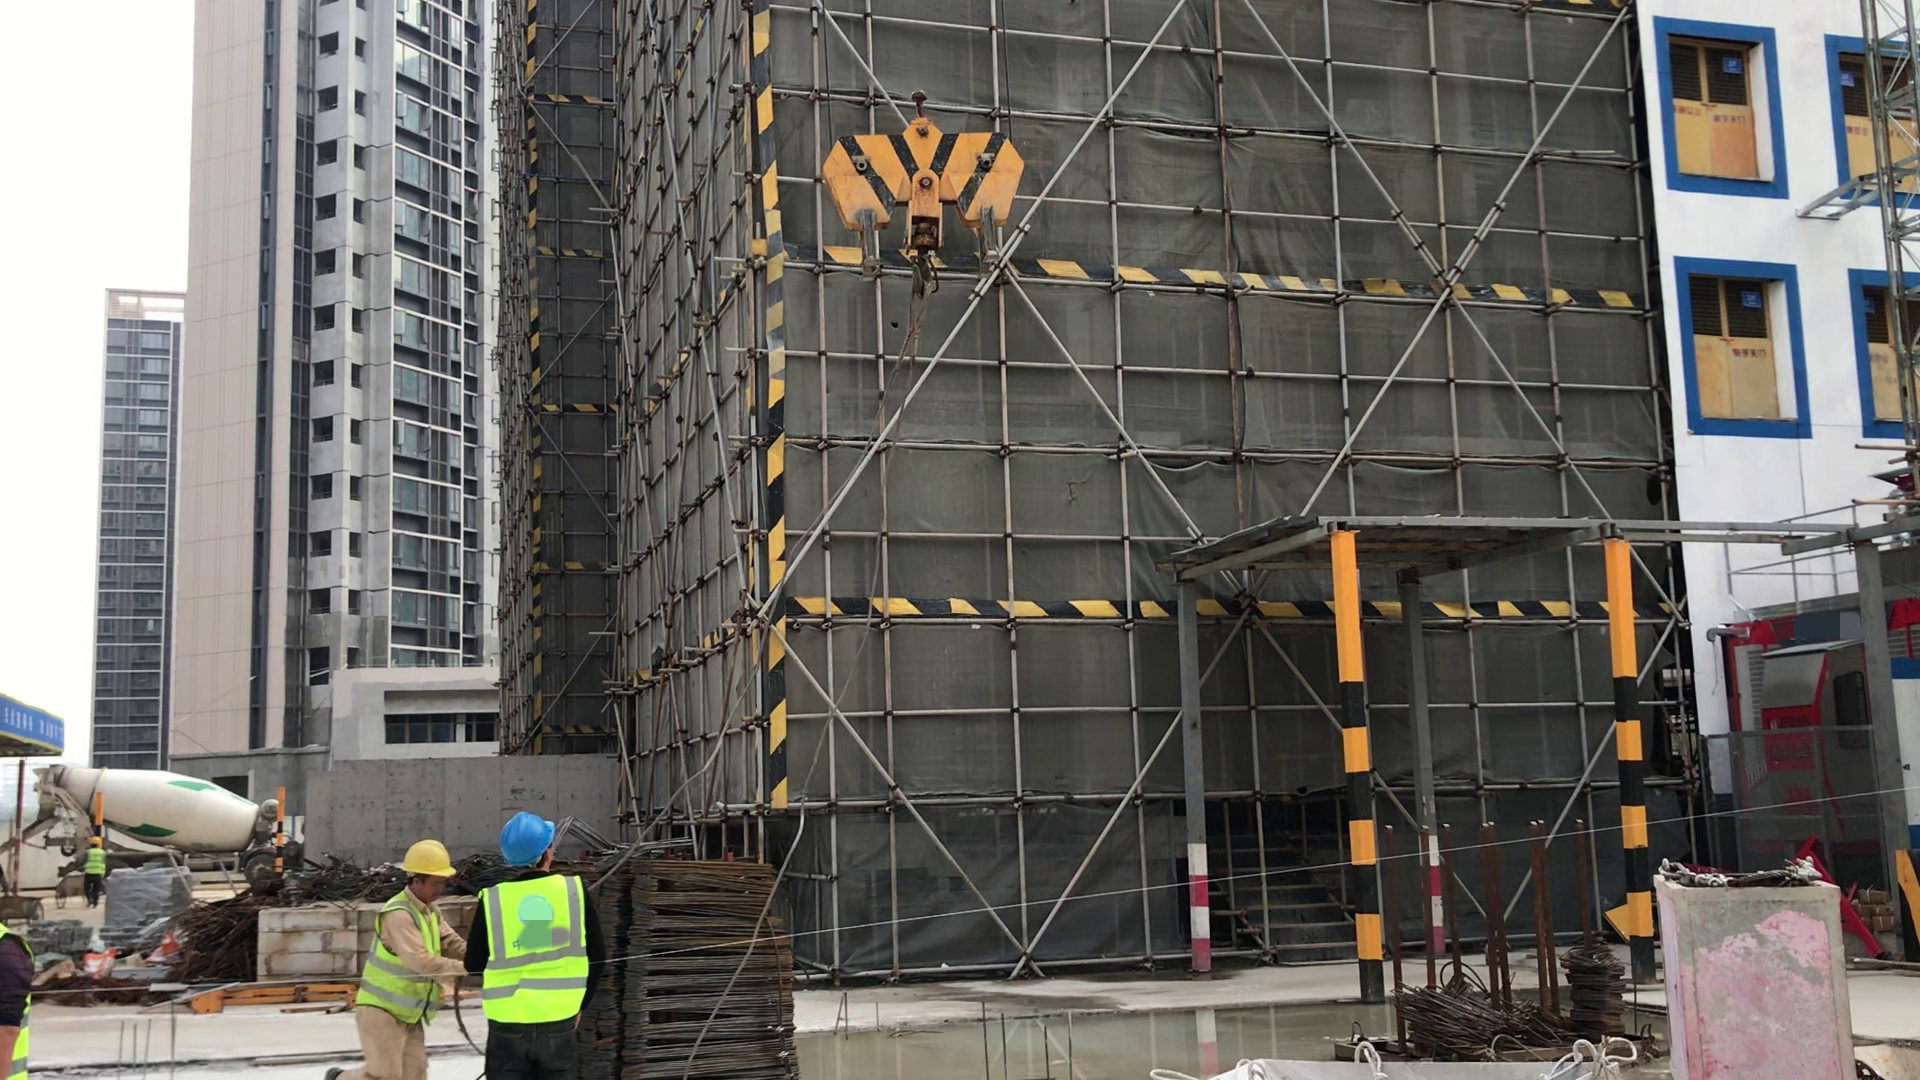helmet: (498, 814, 561, 866), (391, 837, 459, 880), (88, 835, 104, 847)
person: (466, 817, 621, 1080), (330, 828, 472, 1080), (73, 836, 117, 911)
vest: (477, 887, 589, 1024), (363, 898, 440, 1031), (1, 927, 36, 1061), (87, 850, 103, 874)
